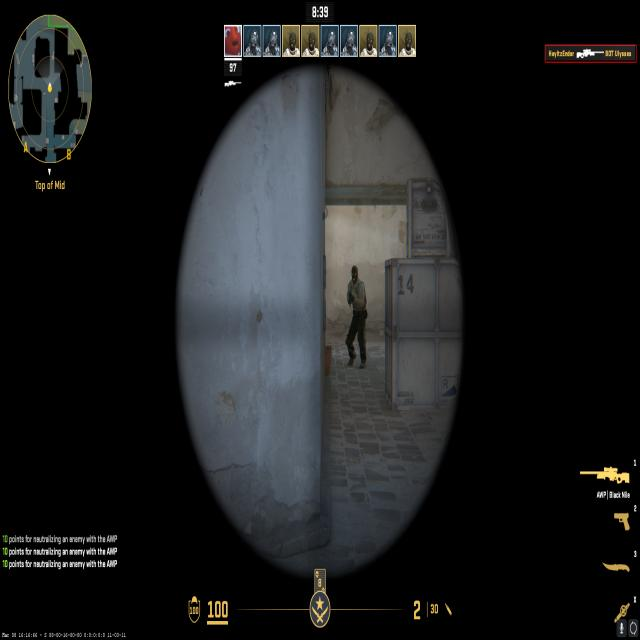t: (342, 260, 371, 372)
